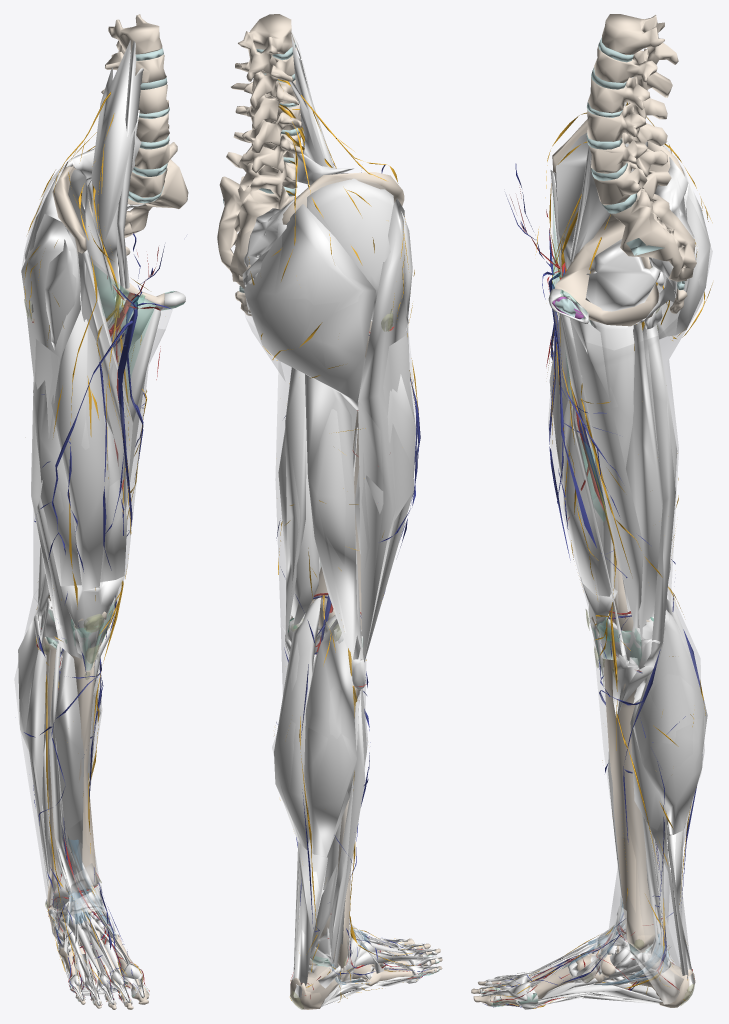
The model's file is pelvis_mini.glb.
3 views of the same model, side by side, from view 1: azimuth 30°, elevation 25°; view 2: azimuth 150°, elevation 25°; view 3: azimuth 270°, elevation 25° (orthographic). The views are drawn at different scales.
Visible parts, largest first — view 1: Fascia lata.r, Crural fascia.r, Rectus femoris.r, Iliotibial tract.r, Psoas major.r, Vastus lateralis muscle.r, Tibialis anterior muscle.r, Sartorius muscle.r, Tibia.r, Quadriceps common tendon and patellar ligament.r, Fibularis longus muscle.r, Vastus medialis muscle.r (+35 smaller); view 2: Fascia lata.r, Crural fascia.r, Gluteus maximus muscle.r, Iliotibial tract.r, Long head of biceps femoris.r, Lateral head of gastrocnemius.r, Medial head of gastrocnemius.r, Gluteus medius muscle.r, Gluteal aponeurosis.r, Semitendinosus muscle.r, Sacrum, Semimembranosus muscle.r (+25 smaller); view 3: Fascia lata.r, Crural fascia.r, Medial head of gastrocnemius.r, Gracilis muscle.r, Tibia.r, Semimembranosus muscle.r, Vastus medialis muscle.r, Semitendinosus muscle.r, Hip bone.r, Sacrum, Adductor magnus.r, Obturator internus.r (+36 smaller).
Part boxes in pixels (bbox=[...]): Fascia lata.r: bbox=[22, 239, 172, 641]; Crural fascia.r: bbox=[14, 596, 110, 934]; Rectus femoris.r: bbox=[51, 292, 110, 590]; Iliotibial tract.r: bbox=[21, 214, 82, 658]; Psoas major.r: bbox=[91, 40, 141, 326]; Vastus lateralis muscle.r: bbox=[33, 356, 81, 586]; Tibialis anterior muscle.r: bbox=[54, 650, 112, 928]; Sartorius muscle.r: bbox=[78, 250, 132, 622]; Tibia.r: bbox=[64, 645, 100, 893]; Quadriceps common tendon and patellar ligament.r: bbox=[61, 576, 124, 670]; Fibularis longus muscle.r: bbox=[26, 650, 62, 938]; Vastus medialis muscle.r: bbox=[100, 415, 127, 582]; Fascia lata.r: bbox=[238, 197, 418, 646]; Crural fascia.r: bbox=[272, 625, 365, 1003]; Gluteus maximus muscle.r: bbox=[243, 204, 375, 411]; Iliotibial tract.r: bbox=[358, 198, 414, 661]; Long head of biceps femoris.r: bbox=[305, 374, 363, 662]; Lateral head of gastrocnemius.r: bbox=[304, 619, 356, 856]; Medial head of gastrocnemius.r: bbox=[274, 595, 320, 849]; Gluteus medius muscle.r: bbox=[307, 178, 394, 321]; Gluteal aponeurosis.r: bbox=[306, 177, 394, 288]; Semitendinosus muscle.r: bbox=[285, 368, 306, 655]; Sacrum: bbox=[217, 176, 298, 288]; Semimembranosus muscle.r: bbox=[278, 428, 318, 626]; Fascia lata.r: bbox=[548, 149, 712, 651]; Crural fascia.r: bbox=[593, 588, 704, 976]; Medial head of gastrocnemius.r: bbox=[633, 610, 704, 834]; Gracilis muscle.r: bbox=[570, 318, 643, 665]; Tibia.r: bbox=[603, 659, 658, 952]; Semimembranosus muscle.r: bbox=[626, 322, 670, 639]; Vastus medialis muscle.r: bbox=[562, 399, 613, 596]; Semitendinosus muscle.r: bbox=[644, 326, 675, 665]; Hip bone.r: bbox=[552, 119, 684, 326]; Sacrum: bbox=[610, 169, 696, 281]; Adductor magnus.r: bbox=[590, 320, 634, 615]; Obturator internus.r: bbox=[586, 239, 660, 311].
Size of the model in its own units: 0.2219 by 1.16 by 0.2504.
